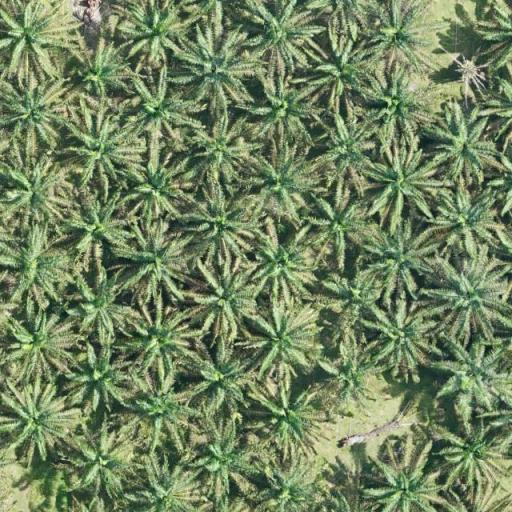Ganoderma: (4, 12, 54, 56), (455, 56, 484, 82)
